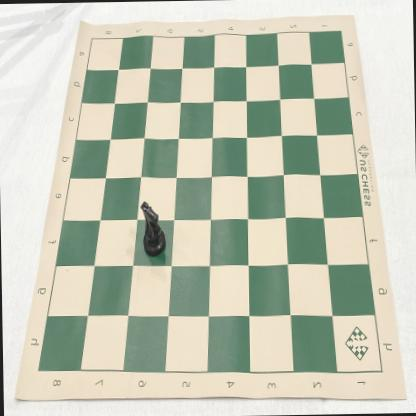black-knight: (140, 200, 167, 258)
